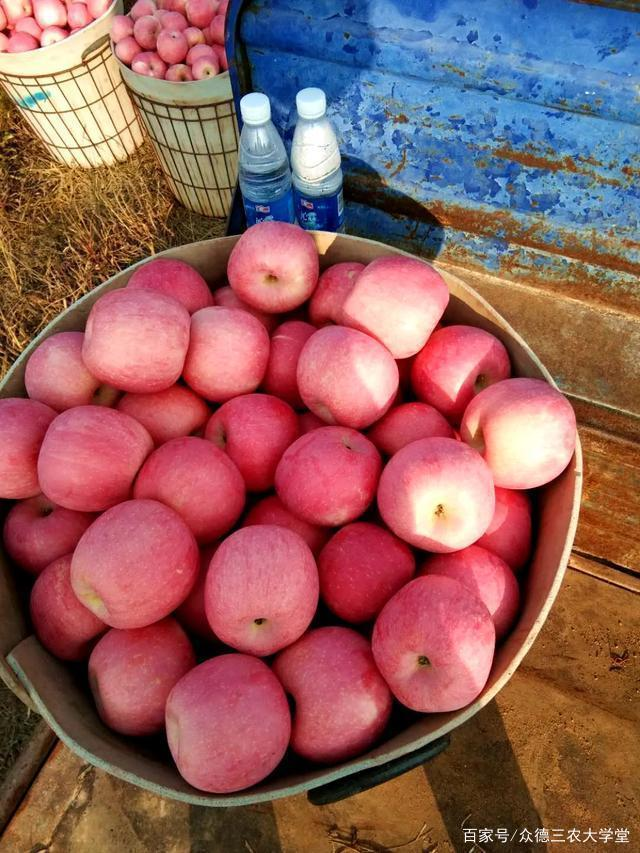apple: (165, 653, 293, 796), (69, 493, 203, 629), (368, 572, 493, 715), (276, 626, 393, 759), (205, 523, 320, 653), (374, 434, 492, 553), (88, 619, 200, 738), (461, 379, 578, 488), (35, 406, 153, 510), (131, 434, 247, 538), (294, 322, 401, 431), (80, 288, 191, 392), (344, 257, 449, 360), (408, 328, 510, 430), (109, 1, 229, 85), (278, 425, 375, 521), (201, 394, 300, 487), (322, 521, 414, 621), (224, 222, 319, 318), (185, 305, 267, 404), (23, 334, 100, 415)
